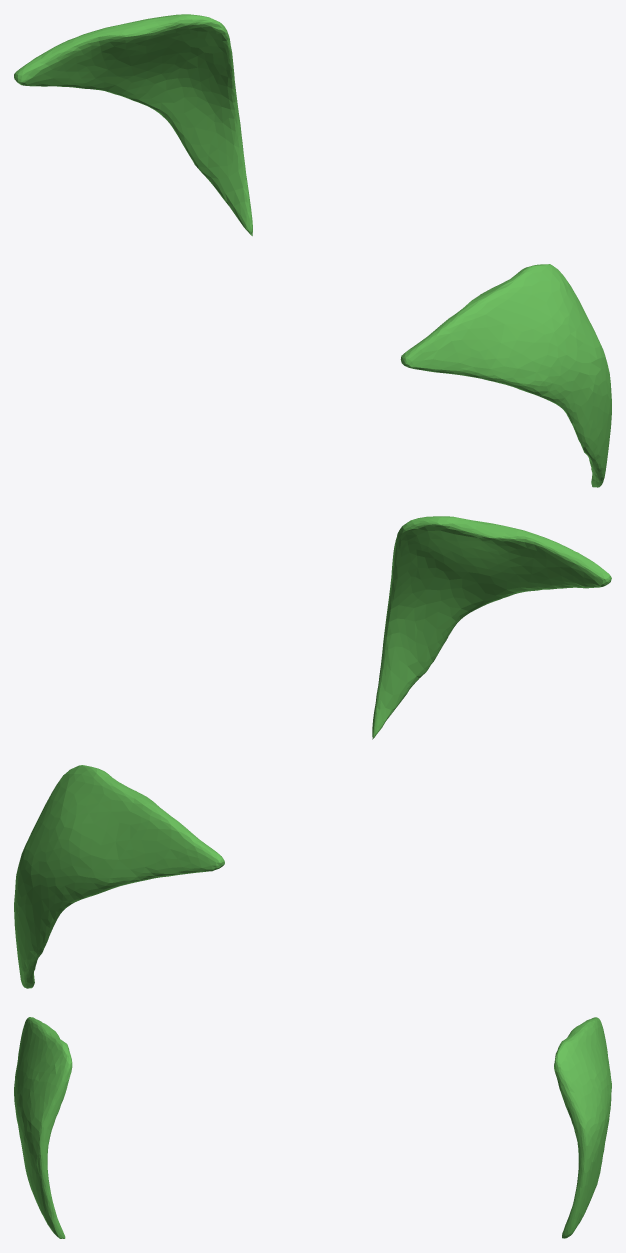
3 renders of one model, top to bottom at view 1: azimuth 30°, elevation 25°; view 2: azimuth 150°, elevation 25°; view 3: azimuth 270°, elevation 25°, orthographic. The views are drawn at different scales.
Visible parts, largest first — view 1: 139.obj; view 2: 139.obj; view 3: 139.obj.
Part boxes in pixels (x1,y1,x2,y2): 139.obj: [14, 14, 611, 487]; 139.obj: [14, 516, 611, 988]; 139.obj: [14, 1017, 611, 1238].
Size of the model in its own units: 2800 by 2900 by 9063.
